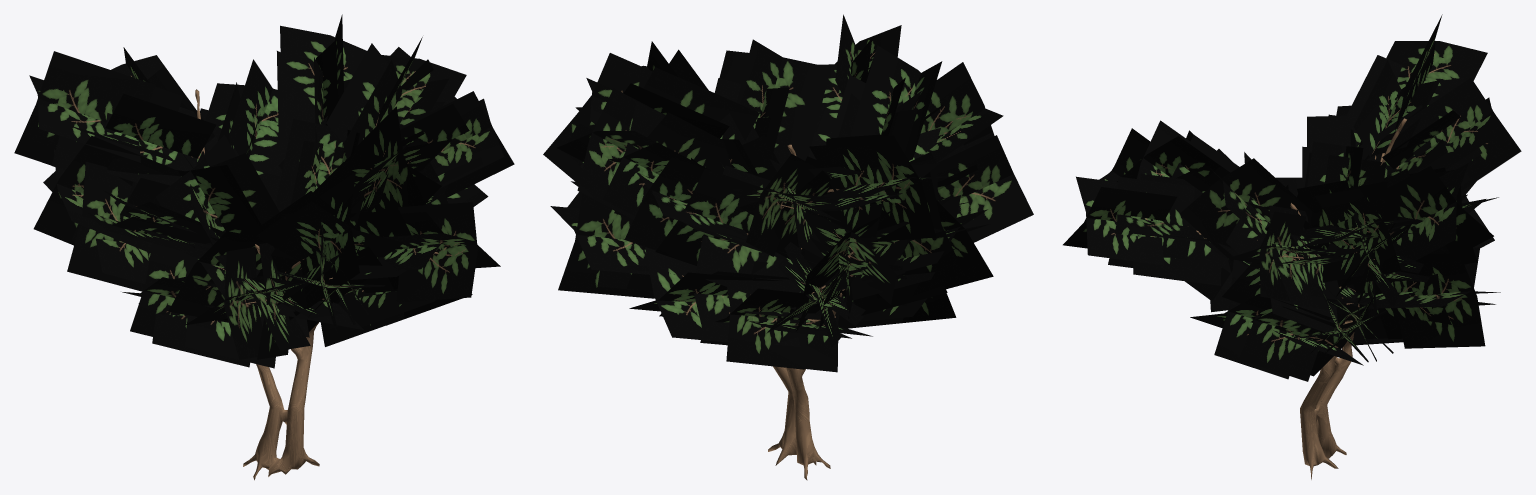
Rendered from Arbousier_V10_1_LOD0.fbx.
3 views of the same model, side by side, from view 1: azimuth 30°, elevation 25°; view 2: azimuth 150°, elevation 25°; view 3: azimuth 270°, elevation 25° (orthographic). The views are drawn at different scales.
Parts seen in each view (by area): view 1: Arbousier_V10_1_LOD0; view 2: Arbousier_V10_1_LOD0; view 3: Arbousier_V10_1_LOD0.
Boxes of the visible parts, x1,y1,x2,y2 form: Arbousier_V10_1_LOD0: (14,14,514,480); Arbousier_V10_1_LOD0: (543,14,1033,480); Arbousier_V10_1_LOD0: (1063,14,1521,479).
Size of the model in its own units: 182 by 173 by 190.
